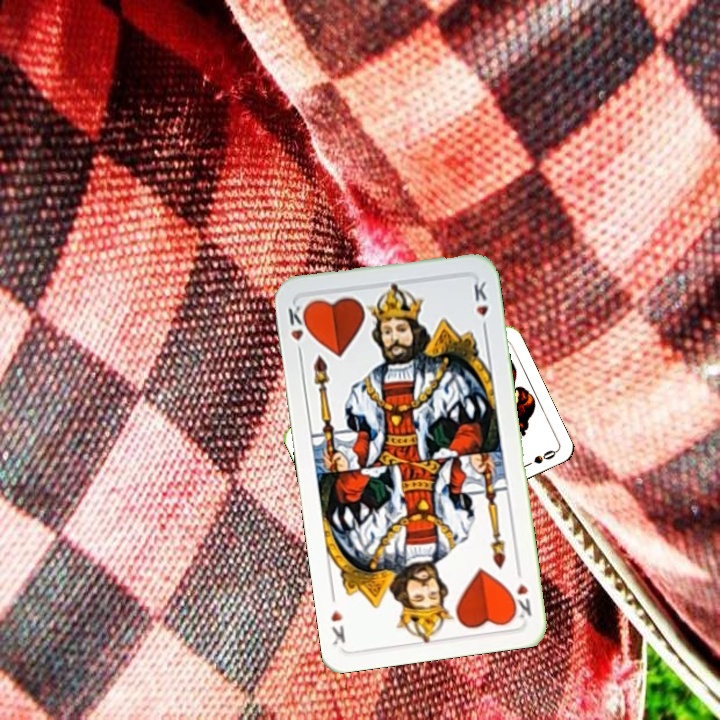HK: (284, 300, 311, 360), (507, 562, 534, 621)
